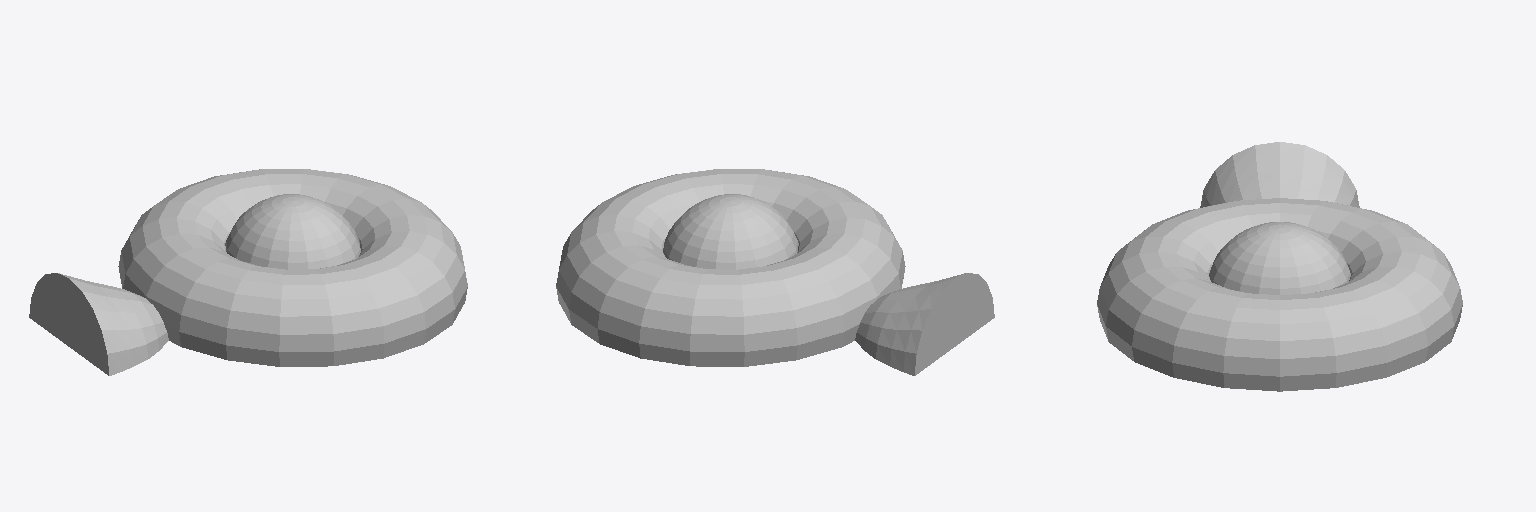
The model's file is Cat Ship.obj.
3 renders of one model, left to right at view 1: azimuth 30°, elevation 25°; view 2: azimuth 150°, elevation 25°; view 3: azimuth 270°, elevation 25°, orthographic.
Visible parts, largest first — view 1: pSphere2; view 2: pSphere2; view 3: pSphere2.
Part boxes in pixels (x1,y1,x2,y2): pSphere2: (29,169,467,375); pSphere2: (556,169,994,375); pSphere2: (1097,142,1462,391).
Bounding box in the file's own units: 4.25 × 0.9978 × 3.61.